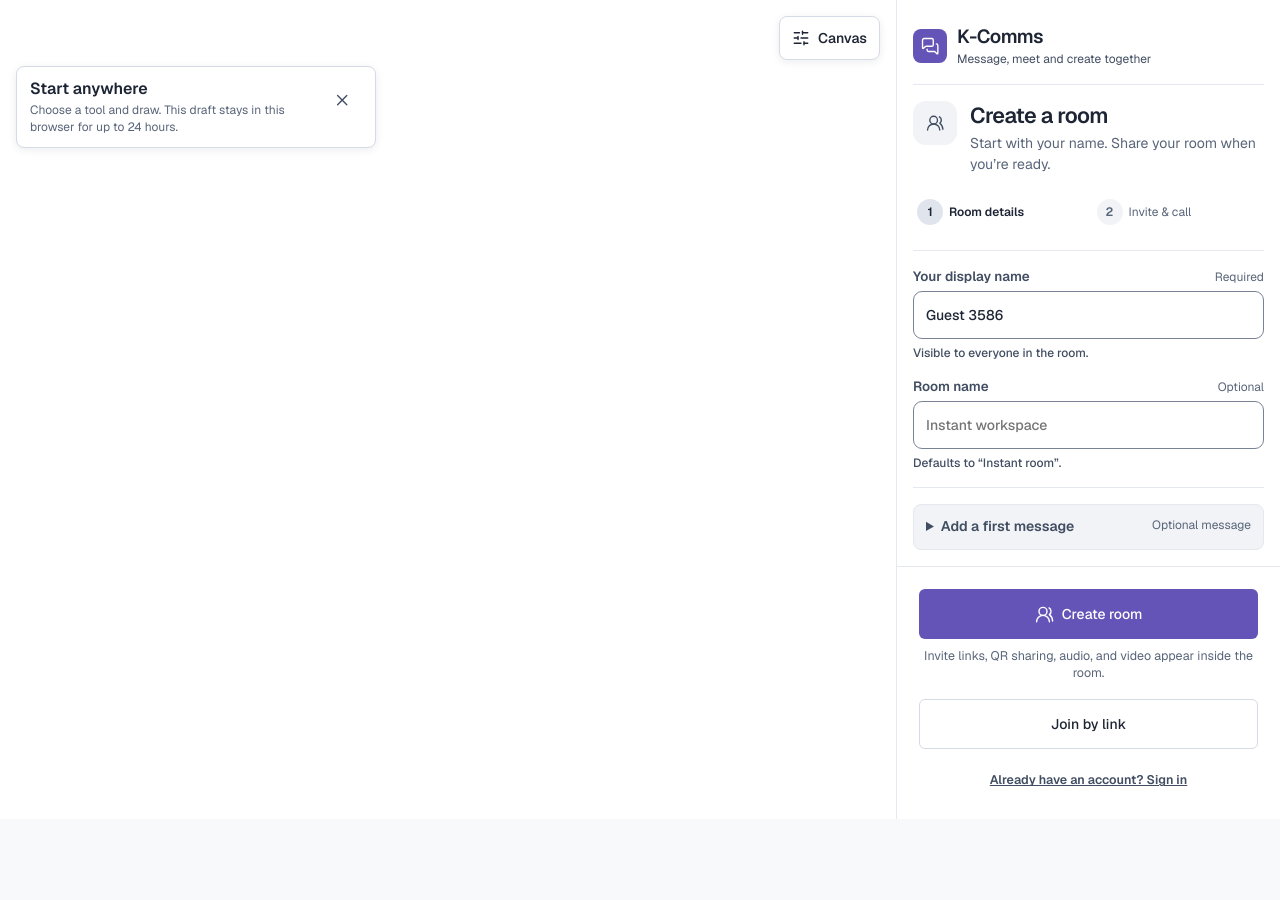
InstantWorkspaceDraft › opens as a usable local canvas with optional messaging behind a disclosure
Expected: the element named "Room setup" is shown, [896,0,1279,819]
Expected: the text "K-Comms" is shown, [957,24,1043,49]
Click the heading "Add a first message Optional message" at (1008, 526), box [941,517,1251,535]
(page scrolled)
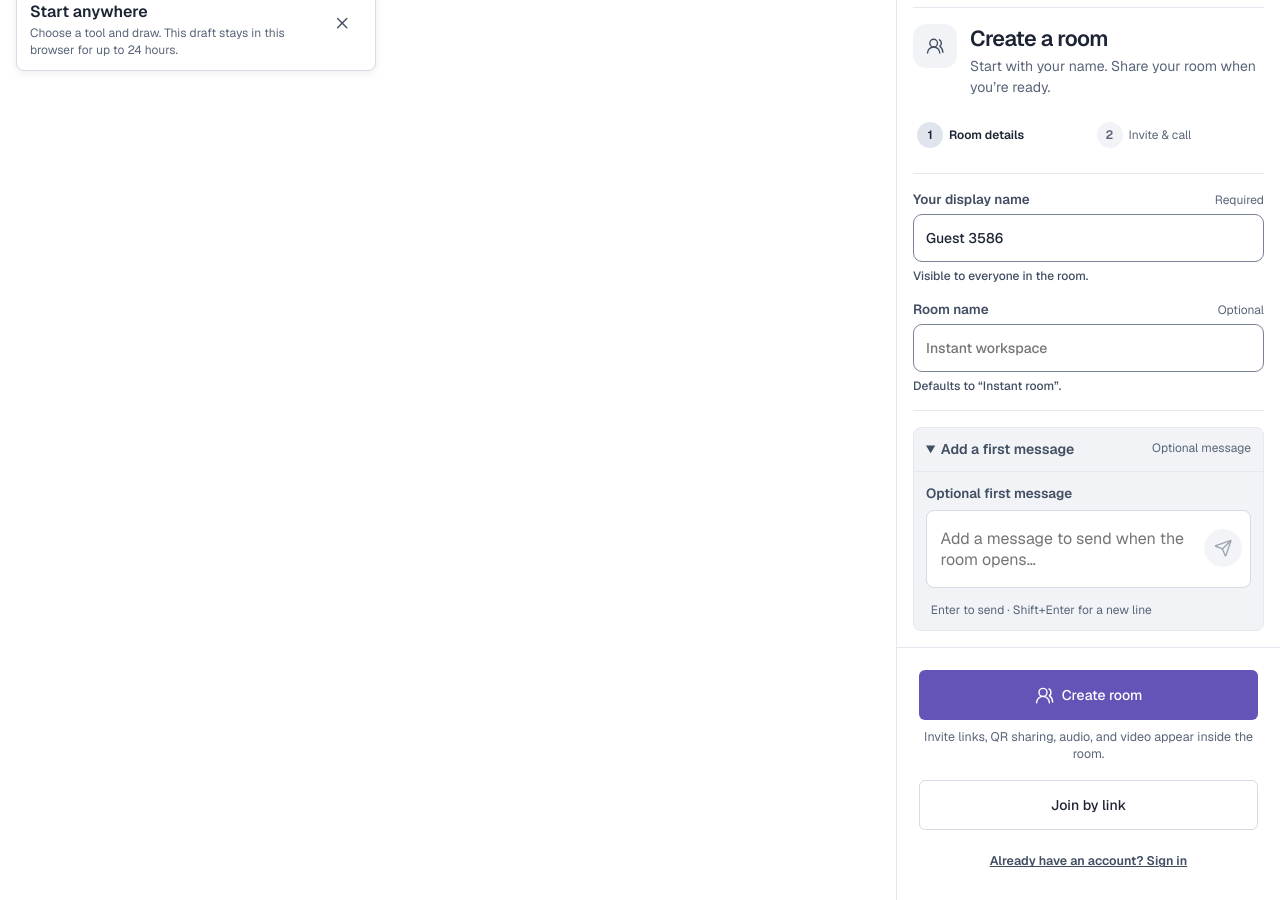
Expected: the element named "Optional first message" below "Optional first message" is shown, [926,510,1251,588]
